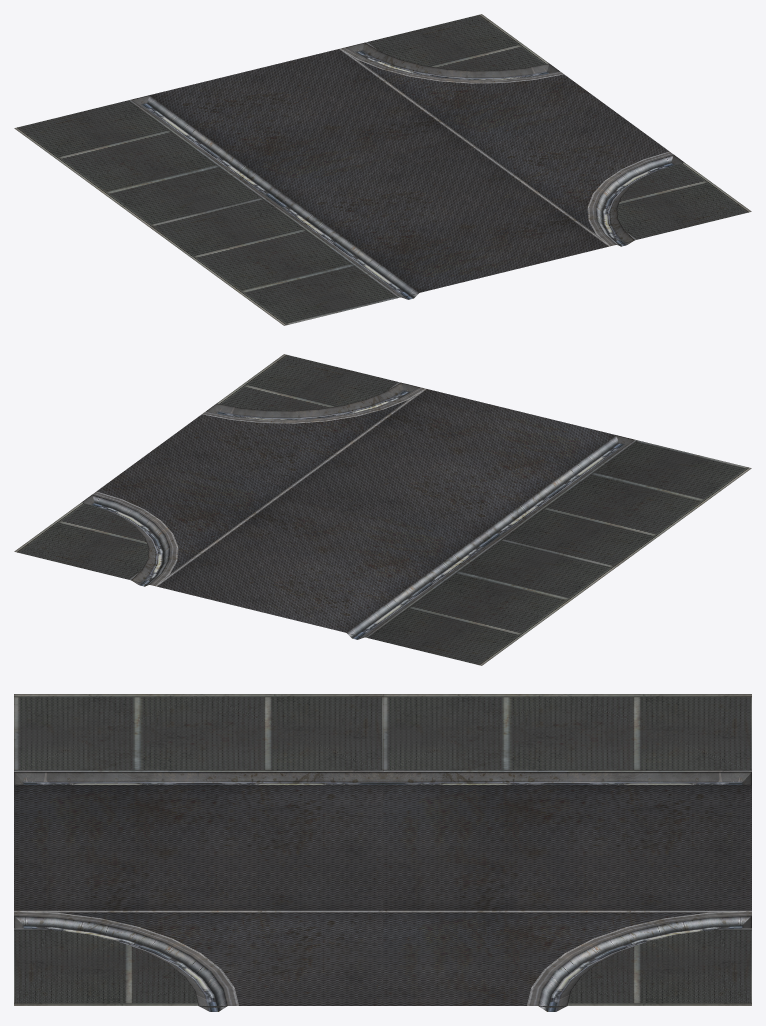
The model's file is FLO_FloorMixed03_5x5.FBX.
The picture shows the model from 3 angles, top to bottom: view 1: azimuth 30°, elevation 25°; view 2: azimuth 150°, elevation 25°; view 3: azimuth 270°, elevation 25°; orthographic projection. The views are drawn at different scales.
Parts seen in each view (by area): view 1: FLO_FloorMixed03_5x5; view 2: FLO_FloorMixed03_5x5; view 3: FLO_FloorMixed03_5x5.
Part boxes in pixels (bbox=[...]): FLO_FloorMixed03_5x5: bbox=[14, 14, 751, 325]; FLO_FloorMixed03_5x5: bbox=[14, 354, 751, 665]; FLO_FloorMixed03_5x5: bbox=[14, 694, 751, 1011].
Size of the model in its own units: 500 by 4.45 by 500.
1 material, 1 textured.
